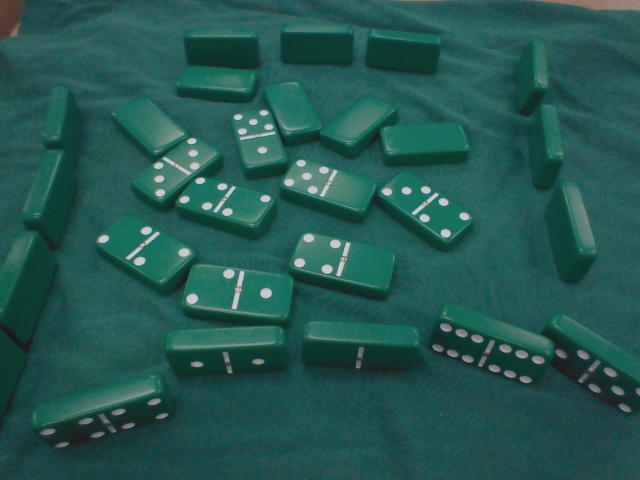A: (100, 92, 188, 161), (375, 121, 476, 172), (323, 87, 397, 156), (168, 62, 260, 103), (262, 83, 322, 145)
B: (369, 165, 475, 250), (85, 207, 194, 289), (278, 226, 401, 296), (277, 149, 376, 225), (120, 135, 224, 206), (185, 256, 298, 320), (170, 174, 280, 238), (218, 106, 292, 175)
C: (2, 228, 63, 343), (15, 149, 83, 243), (36, 82, 86, 163), (1, 328, 20, 419)
D: (544, 176, 600, 291), (516, 104, 572, 188), (502, 45, 557, 113)
E: (420, 300, 553, 397), (30, 371, 174, 451), (531, 312, 640, 411), (158, 321, 296, 384), (297, 315, 421, 377)
F: (361, 26, 443, 81), (182, 29, 264, 71), (278, 26, 356, 67)
